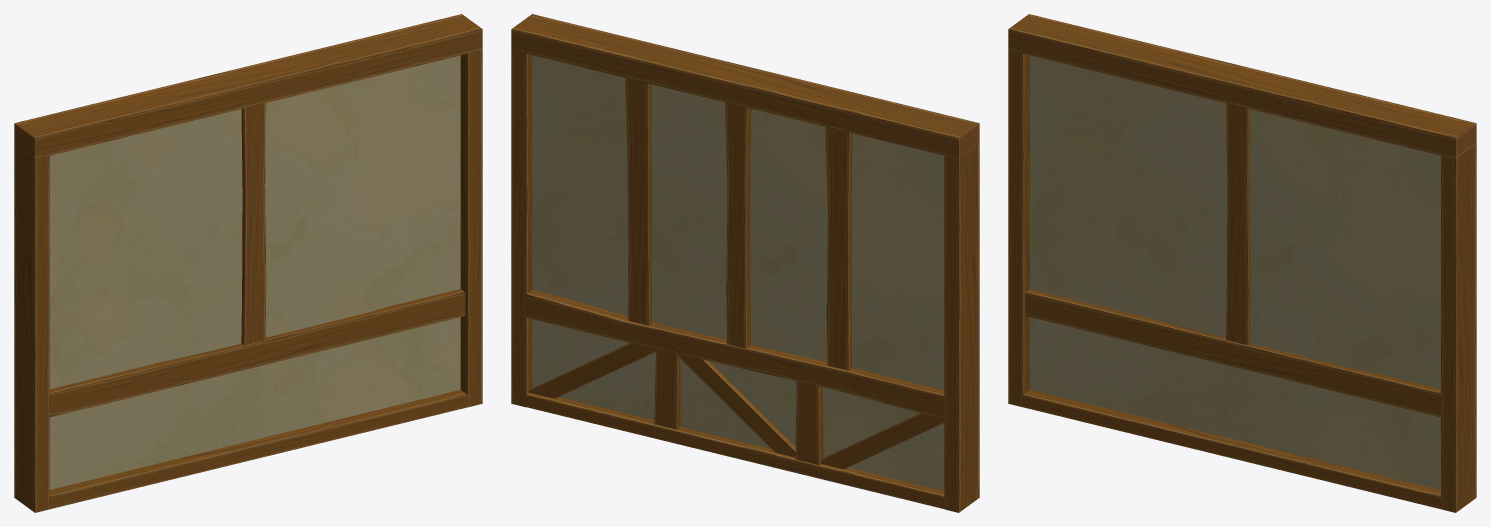
File: SM_House_Wall_5x4_A_03.fbx
3 renders of one model, left to right at view 1: azimuth 30°, elevation 25°; view 2: azimuth 150°, elevation 25°; view 3: azimuth 330°, elevation 25°, orthographic.
Visible parts, largest first — view 1: SM_House_Wall_5x4_A_03; view 2: SM_House_Wall_5x4_A_03; view 3: SM_House_Wall_5x4_A_03.
Boxes of the visible parts, x1,y1,x2,y2 form: SM_House_Wall_5x4_A_03: (14,14,482,512); SM_House_Wall_5x4_A_03: (511,14,979,512); SM_House_Wall_5x4_A_03: (1008,14,1476,512).
Bounding box in the file's own units: 5 × 4 × 0.4024.
